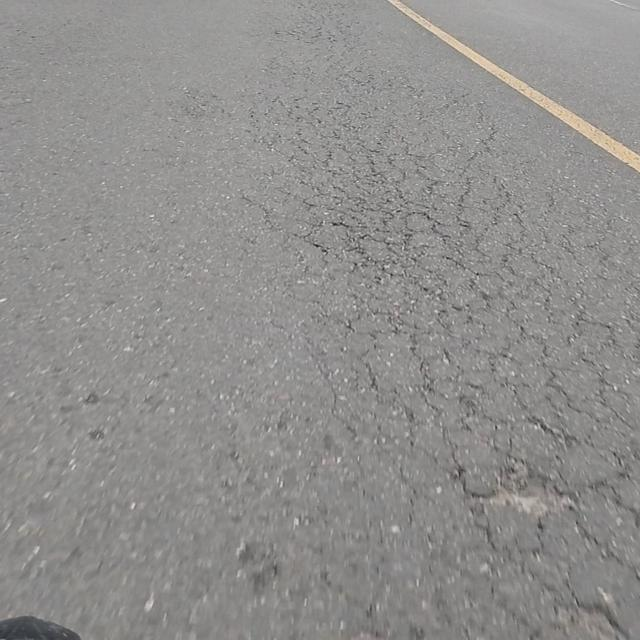Retak Buaya: (273, 30, 633, 640)
